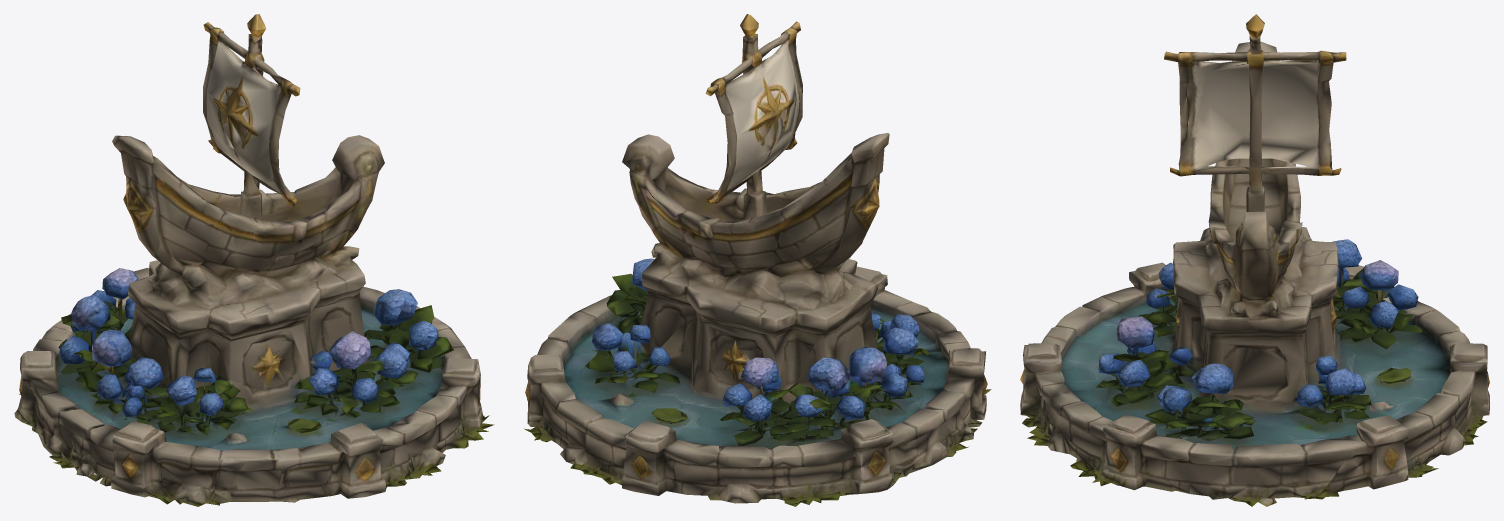
Rendered from ship_monument.glb.
3 views of the same model, side by side, from view 1: azimuth 30°, elevation 25°; view 2: azimuth 150°, elevation 25°; view 3: azimuth 270°, elevation 25° (orthographic).
Parts seen in each view (by area): view 1: tripo_node_68a44962-064f-46eb-a0b5-19e5c2cab578; view 2: tripo_node_68a44962-064f-46eb-a0b5-19e5c2cab578; view 3: tripo_node_68a44962-064f-46eb-a0b5-19e5c2cab578.
Boxes of the visible parts, box(x1,y1,x2,y2) form: tripo_node_68a44962-064f-46eb-a0b5-19e5c2cab578: box(14, 14, 494, 506); tripo_node_68a44962-064f-46eb-a0b5-19e5c2cab578: box(524, 14, 991, 506); tripo_node_68a44962-064f-46eb-a0b5-19e5c2cab578: box(1020, 14, 1489, 506).
Bounding box in the file's own units: 0.9774 × 0.893 × 0.9599.
1 material, 1 textured.
